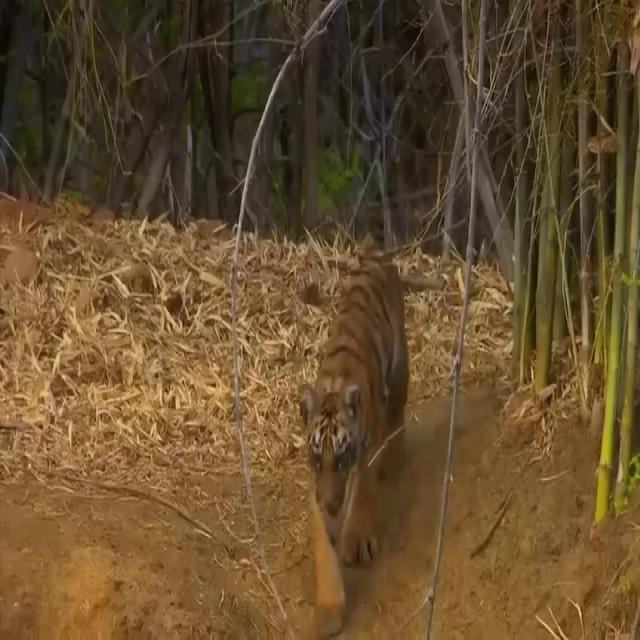tiger: (299, 245, 409, 640)
